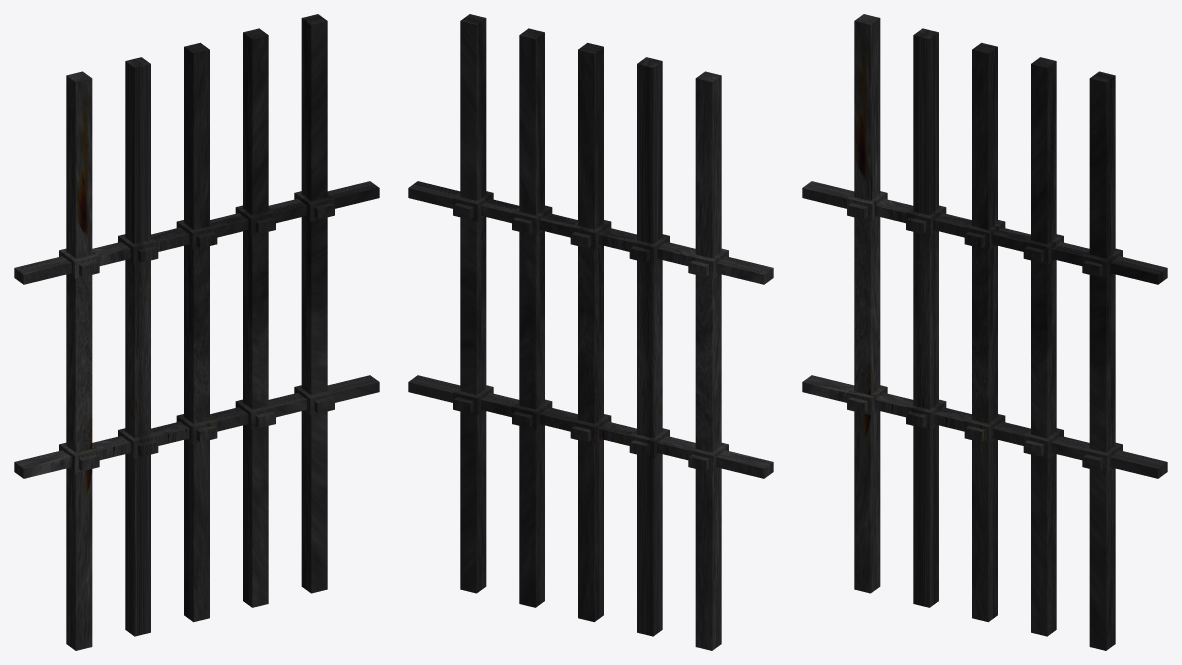
The model's file is barreau_fenetre.glb.
The picture shows the model from 3 angles, left to right: view 1: azimuth 30°, elevation 25°; view 2: azimuth 150°, elevation 25°; view 3: azimuth 330°, elevation 25°; orthographic projection.
Parts seen in each view (by area): view 1: Fenetre; view 2: Fenetre; view 3: Fenetre.
Part boxes in pixels (x1,y1,x2,y2): Fenetre: [14, 14, 379, 650]; Fenetre: [408, 14, 773, 650]; Fenetre: [802, 14, 1167, 650].
Bounding box in the file's own units: 1.41 × 2.16 × 0.1523.
Materials: 1 (1 with a texture image).
